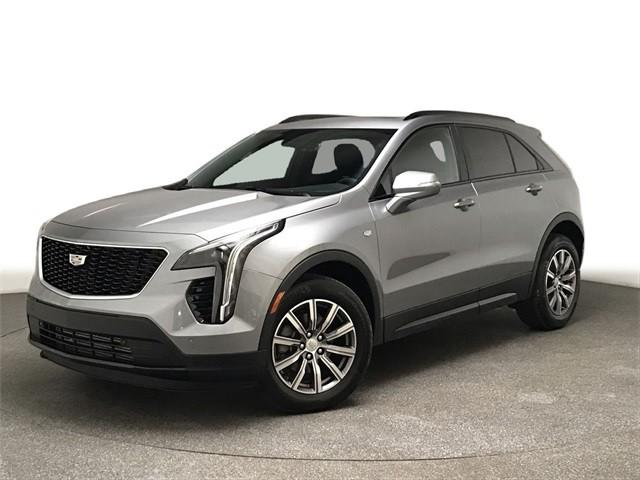cadillac: (26, 110, 584, 410)
